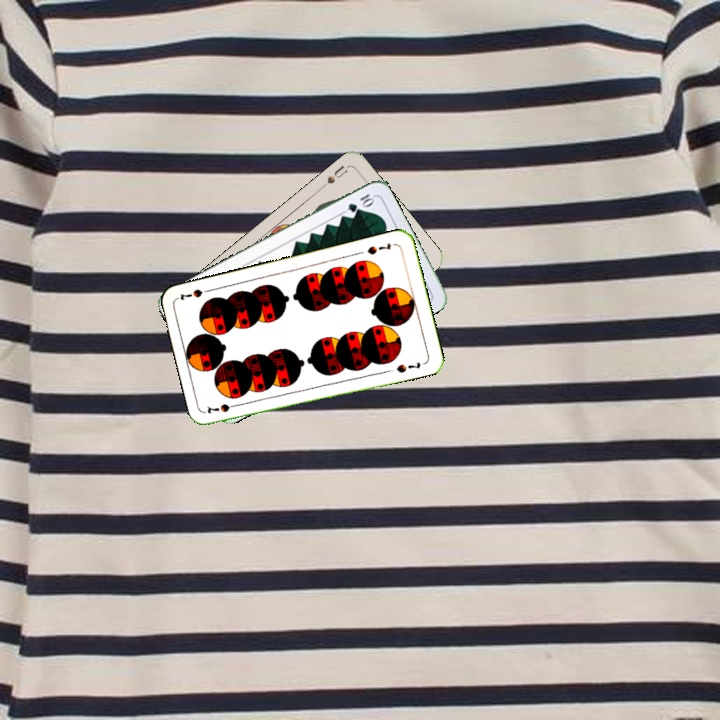G10: (344, 190, 377, 215)
S7: (203, 399, 244, 416), (363, 238, 394, 257)
SU: (317, 161, 350, 191)
